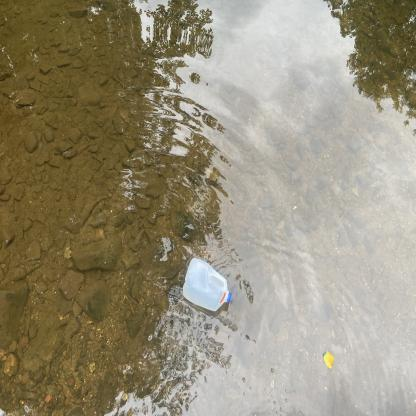trash: (176, 254, 237, 318)
